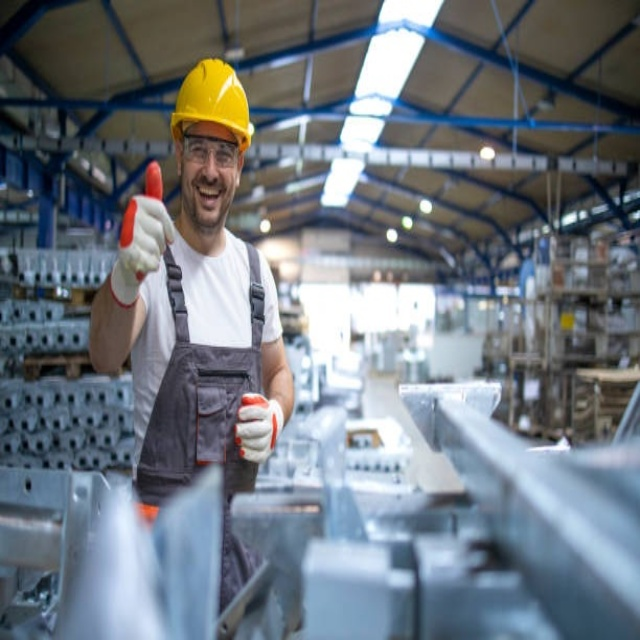Gafas: (181, 134, 240, 169)
Guantes: (109, 164, 176, 307), (235, 395, 285, 464)
Sin_mascara: (190, 179, 226, 216)
